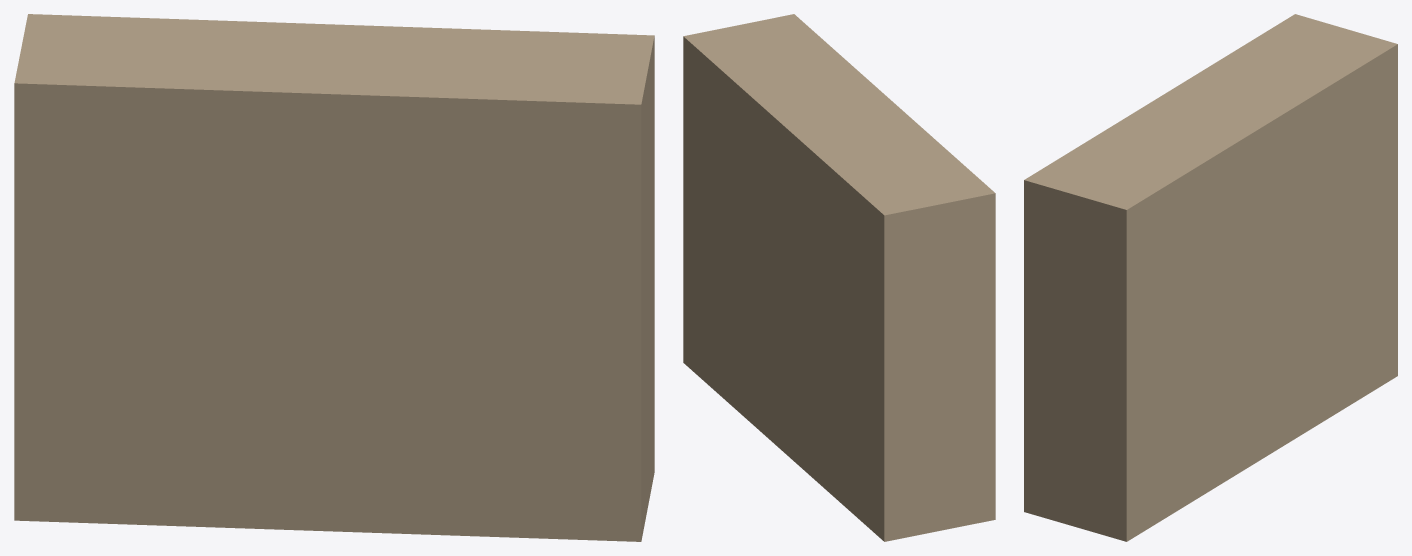
The model's file is bld_101289738.dae.
3 views of the same model, side by side, from view 1: azimuth 30°, elevation 25°; view 2: azimuth 150°, elevation 25°; view 3: azimuth 270°, elevation 25° (orthographic). The views are drawn at different scales.
Visible parts, largest first — view 1: bld_101289738; view 2: bld_101289738; view 3: bld_101289738.
Boxes of the visible parts, box(x1,y1,x2,y2) form: bld_101289738: box(14, 14, 654, 541); bld_101289738: box(683, 14, 995, 541); bld_101289738: box(1024, 14, 1397, 541).
Size of the model in its own units: 10.13 by 8.17 by 8.
